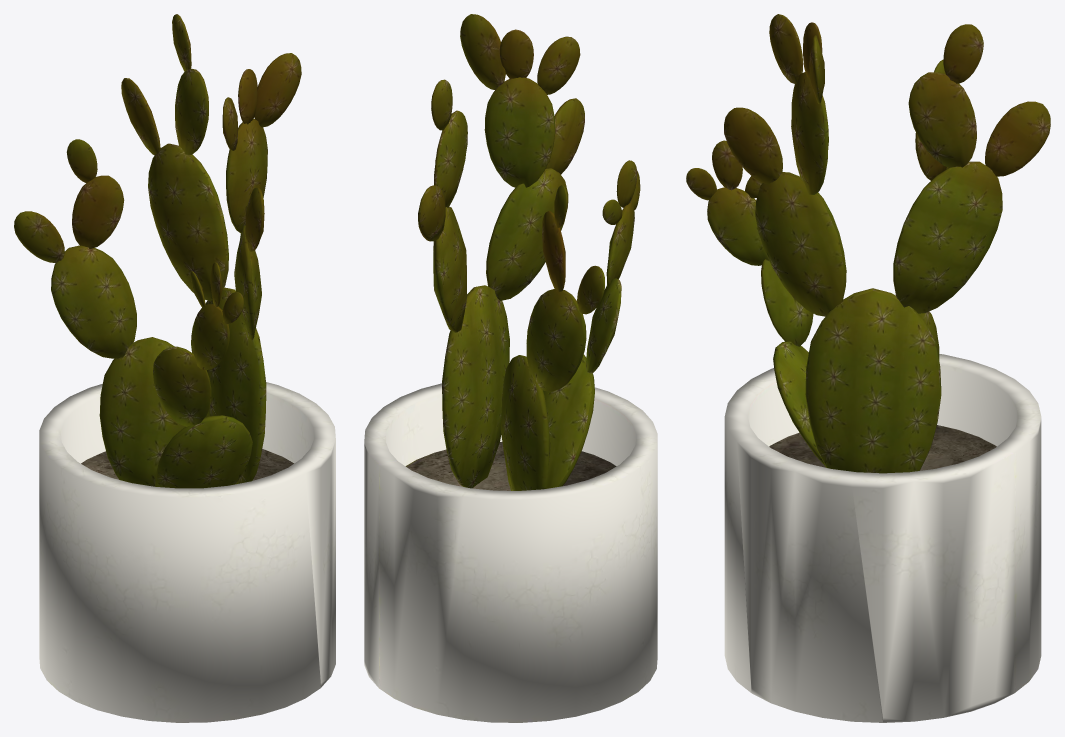
File: sf-prickly-pear.glb
The picture shows the model from 3 angles, left to right: view 1: azimuth 30°, elevation 25°; view 2: azimuth 150°, elevation 25°; view 3: azimuth 270°, elevation 25°; orthographic projection. The views are drawn at different scales.
Visible parts, largest first — view 1: Plane.021__0; view 2: Plane.021__0; view 3: Plane.021__0.
Part boxes in pixels (<box>): Plane.021__0: <box>14,14,335,722</box>; Plane.021__0: <box>364,14,657,722</box>; Plane.021__0: <box>686,14,1050,722</box>.
Bounding box in the file's own units: 0.2016 × 0.45 × 0.2276.
Materials: 1 (1 with a texture image).
